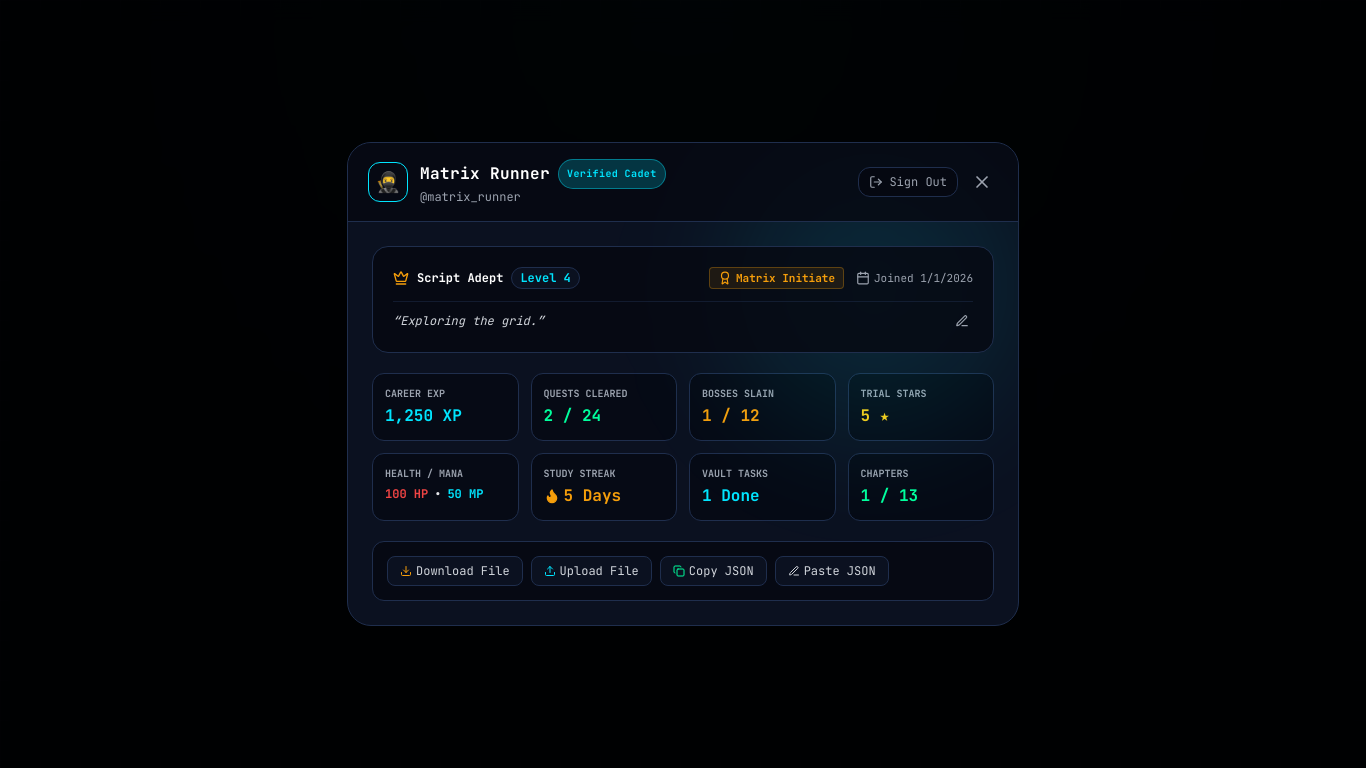
Test: ProfileModal Component › allows cancelling bio edit mode without altering authStore state
Click the button titled "Edit Profile" at (962, 321), box [951,310,973,332]
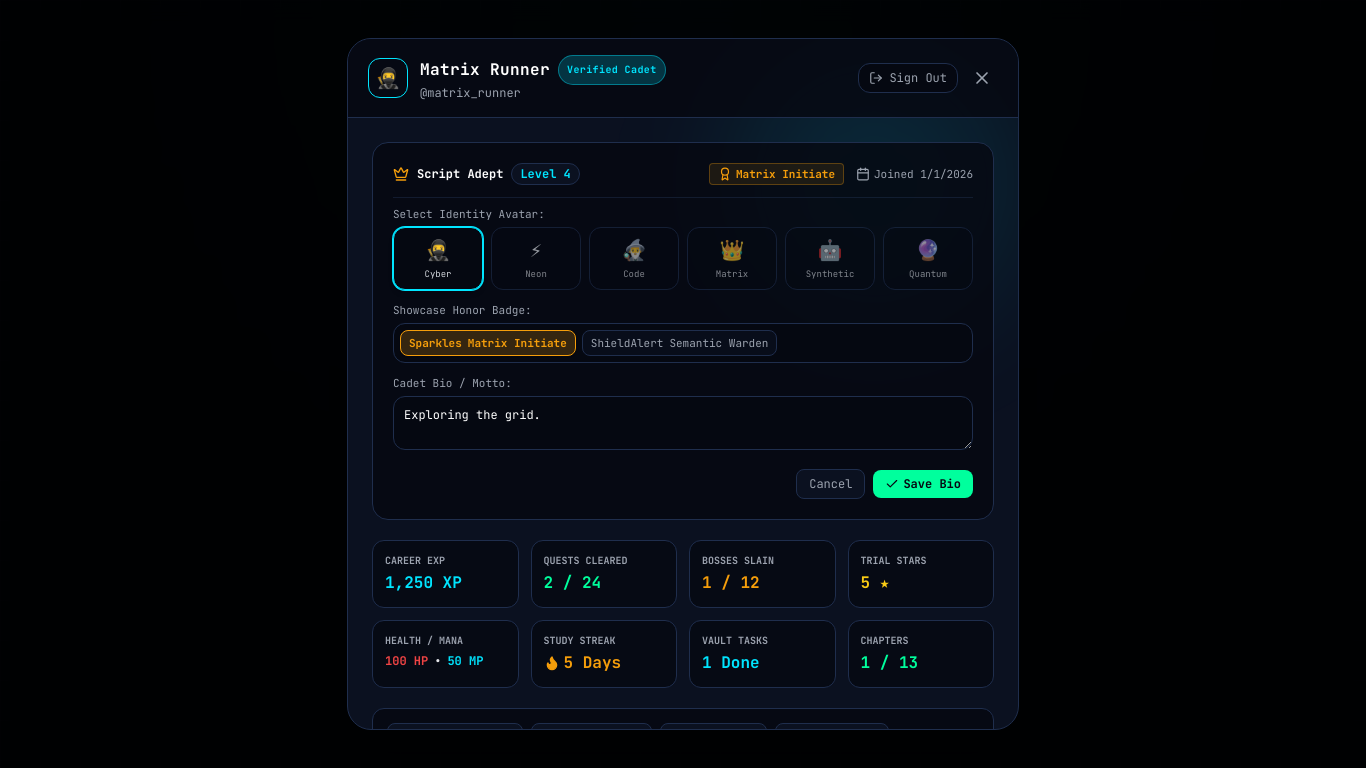
Replace the text in the text box named "Cadet Bio / Motto" with "Discarded text" at (683, 423), box [393,396,973,450]
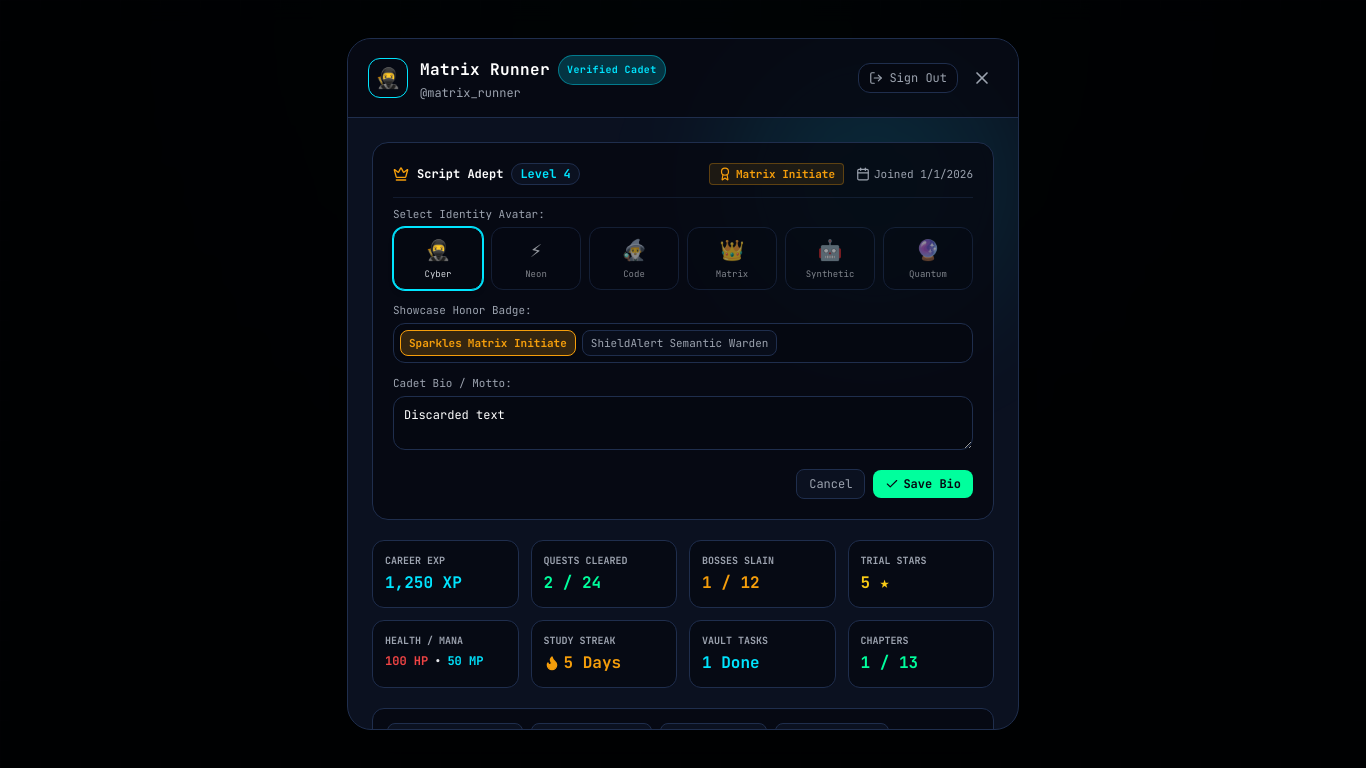
Click the button "Cancel" at (831, 484), box [796,469,865,499]
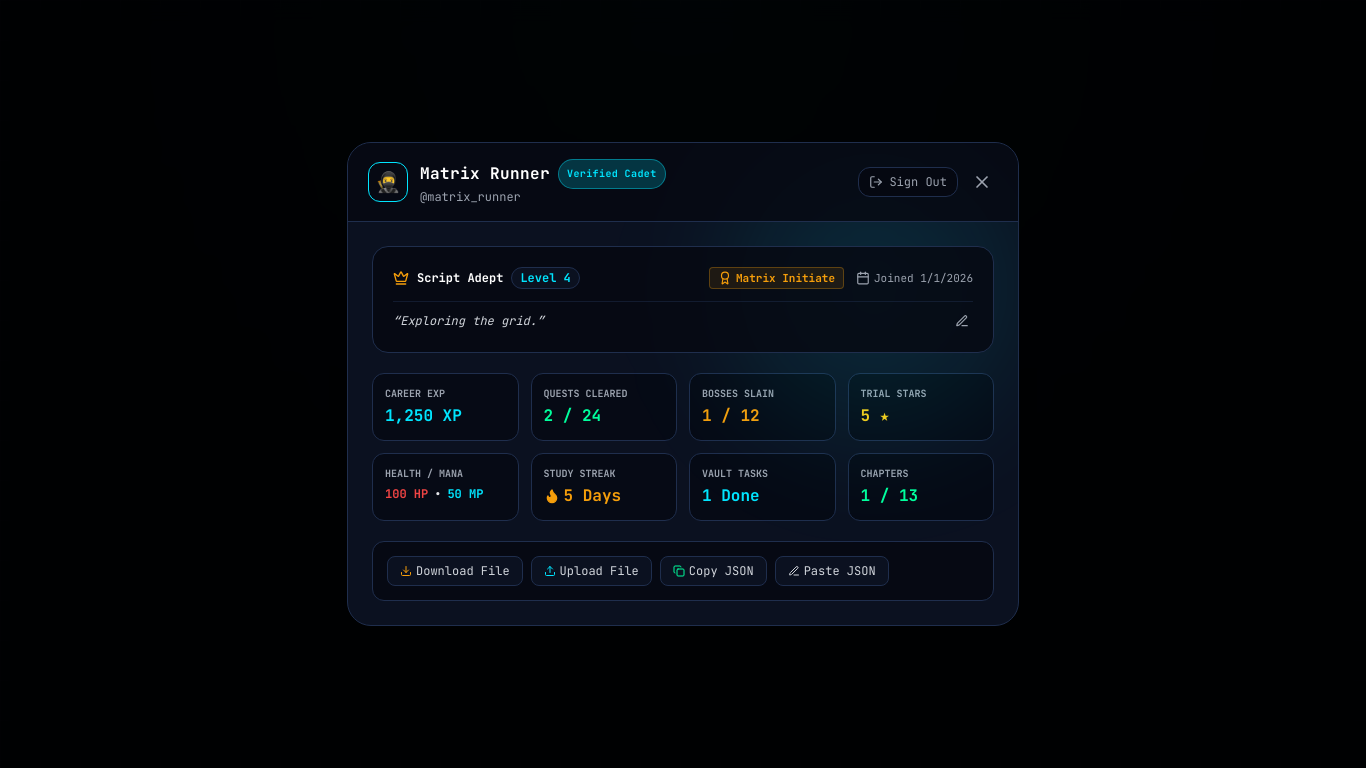
Result: the label labelled "Cadet Bio / Motto" is gone
